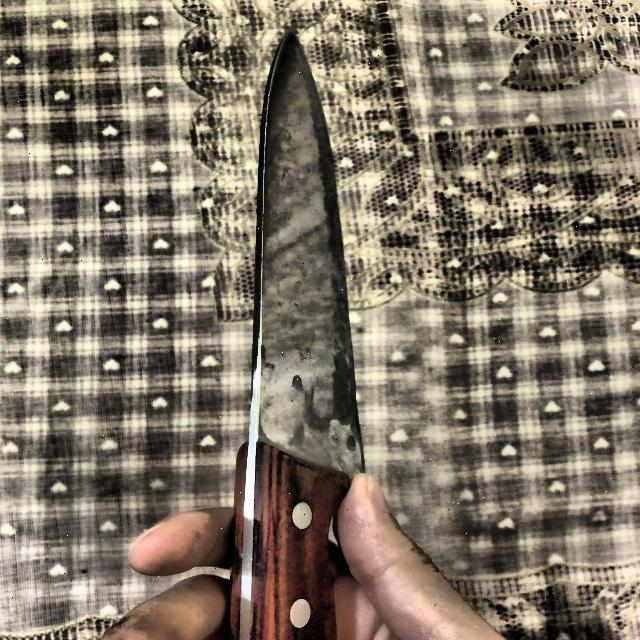knife: (230, 33, 363, 640)
